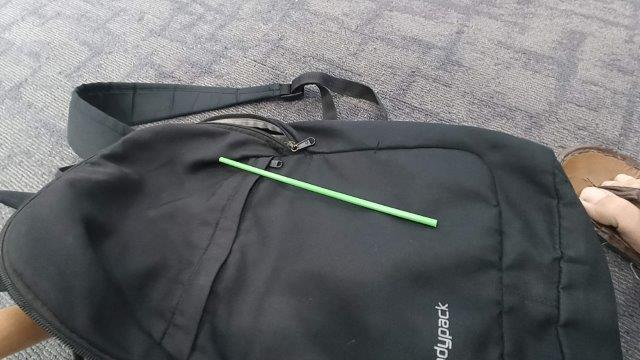sedotan: (219, 157, 438, 227)
